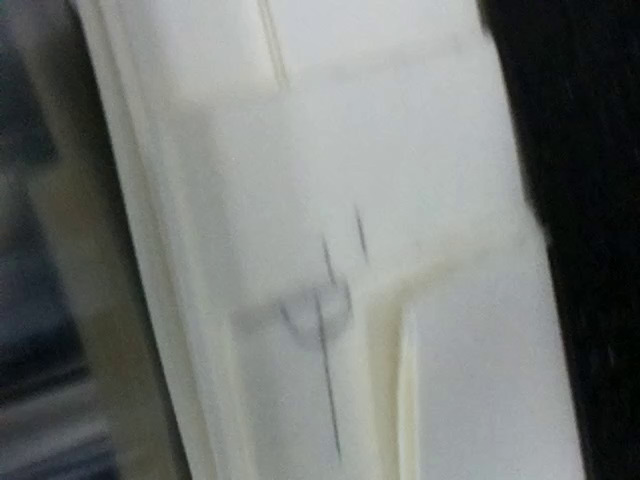not_sure: (239, 229, 371, 359)
